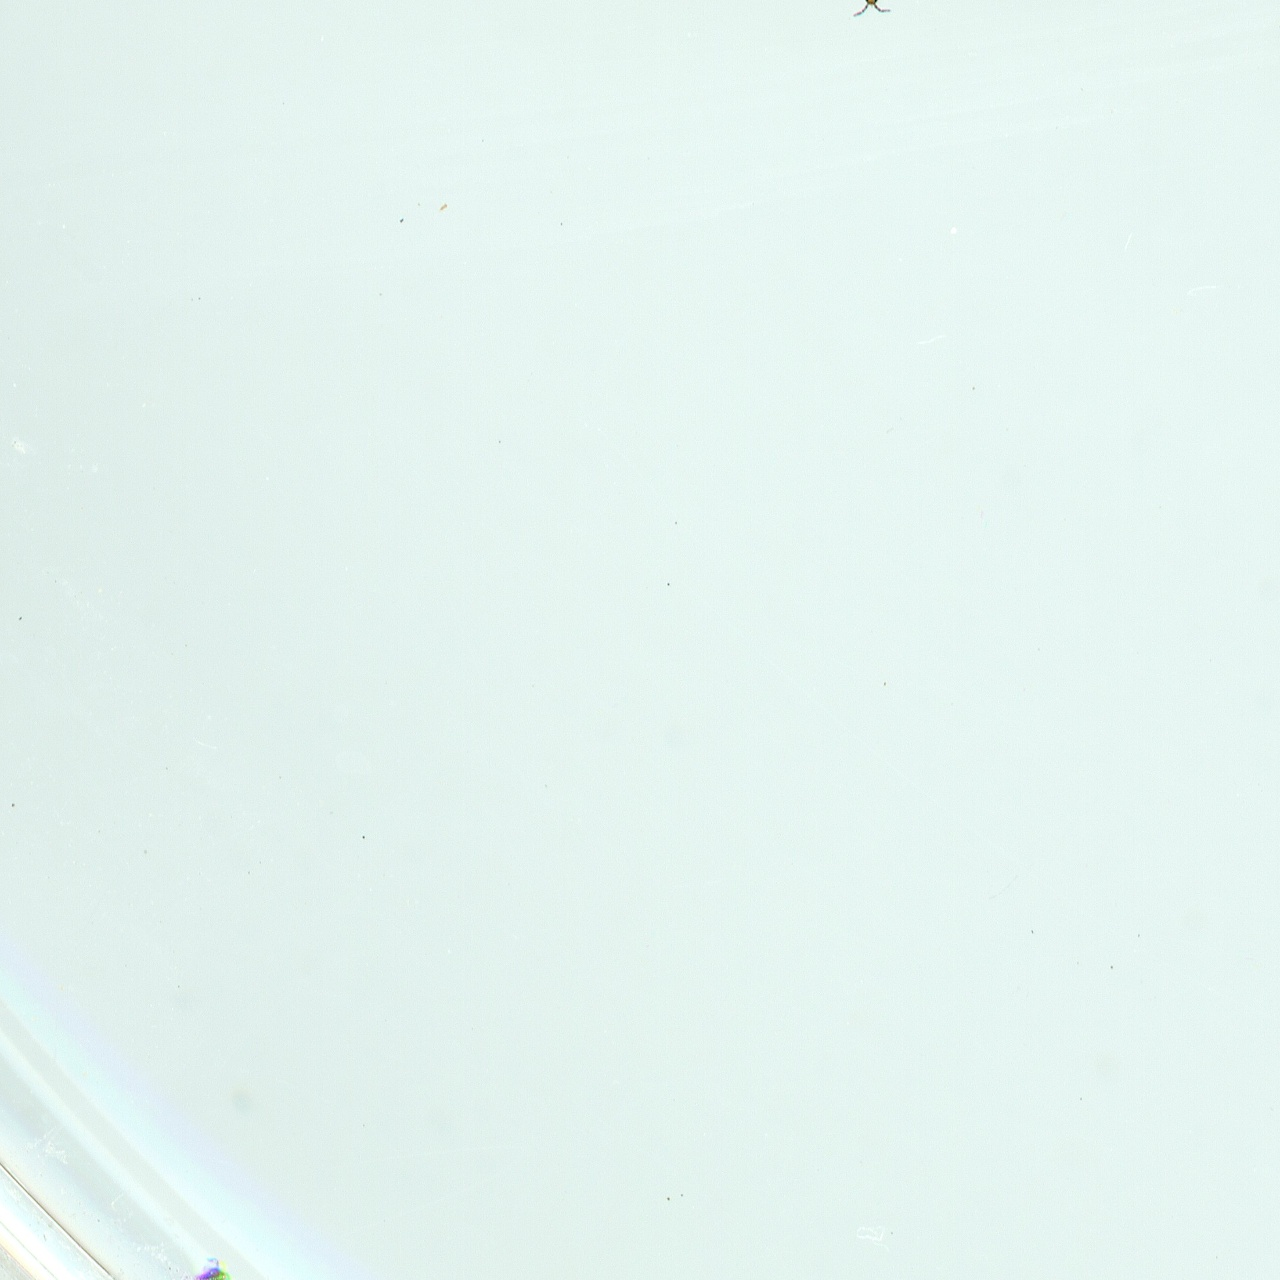arthropod: (847, 0, 892, 24), (1271, 4, 1280, 56)
